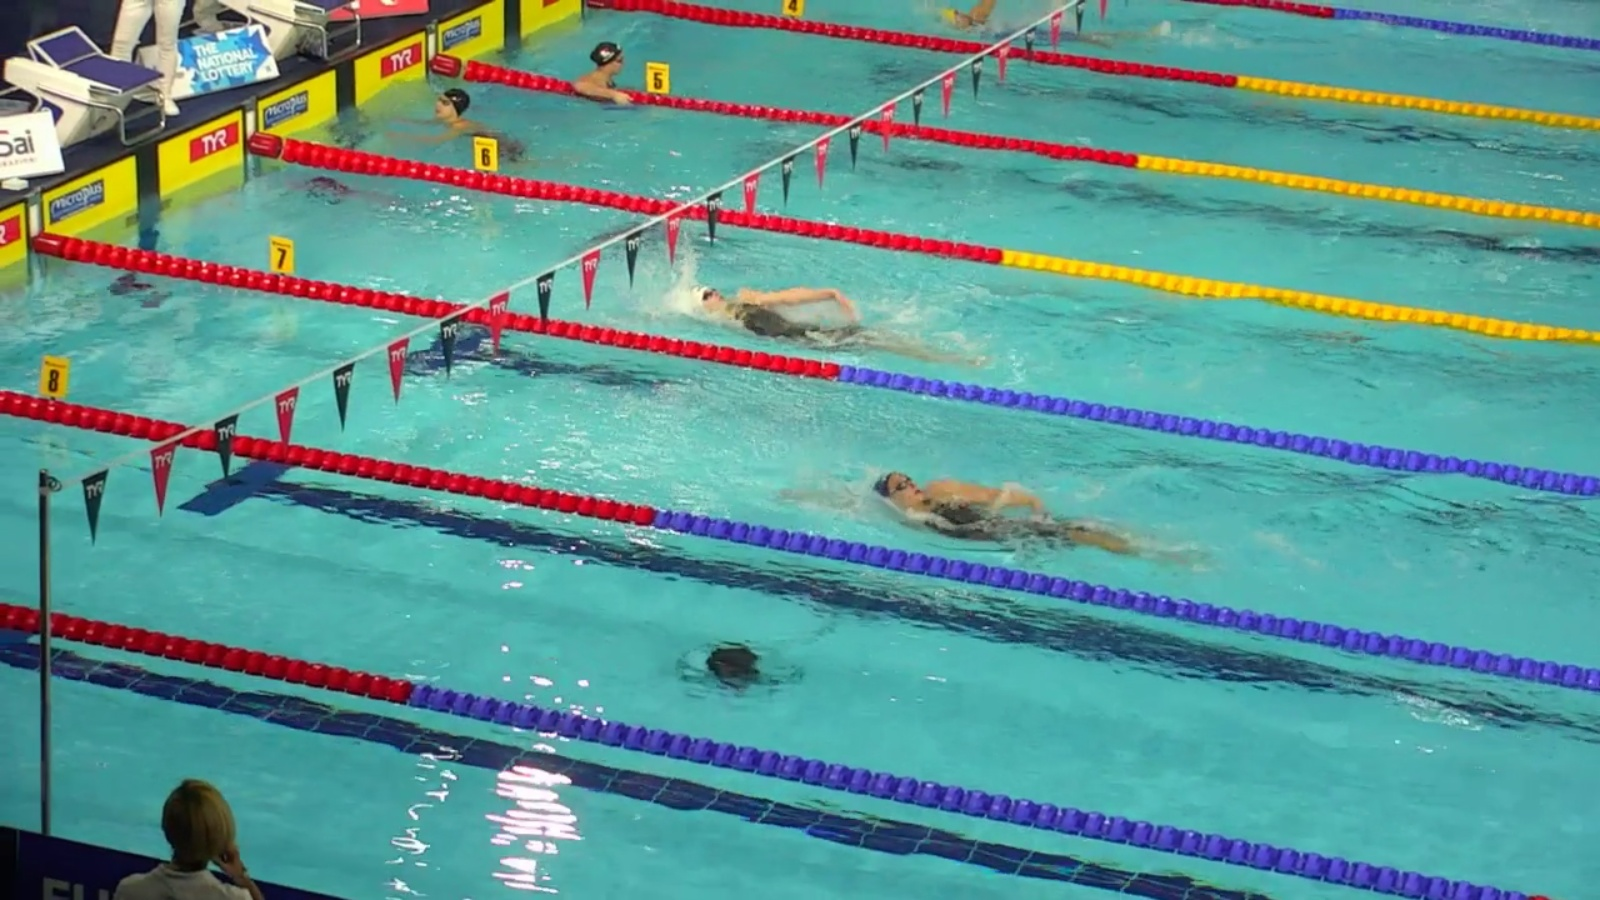swimmerw: (831, 467, 1198, 568), (678, 285, 989, 369), (411, 84, 527, 167), (937, 1, 1133, 49), (553, 41, 651, 116)
